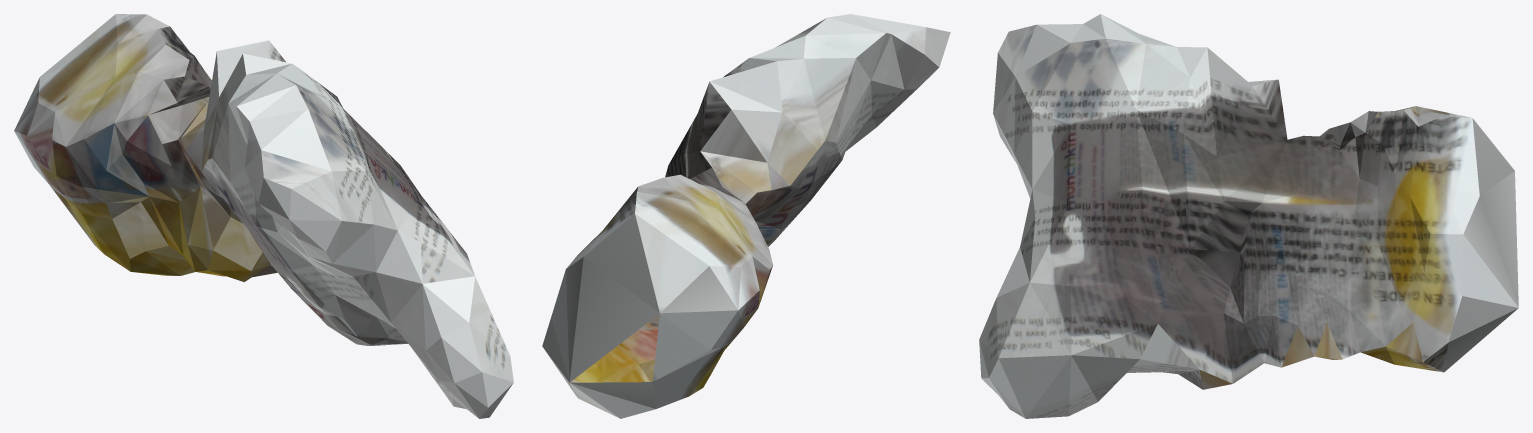
The model's file is munchkin_white_hot_duck_bath_toy.dae.
3 renders of one model, left to right at view 1: azimuth 30°, elevation 25°; view 2: azimuth 150°, elevation 25°; view 3: azimuth 270°, elevation 25°, orthographic. The views are drawn at different scales.
Visible parts, largest first — view 1: node; view 2: node; view 3: node.
Part boxes in pixels (x1,y1,x2,y2): node: [14, 14, 513, 418]; node: [542, 14, 950, 418]; node: [979, 14, 1518, 418].
Size of the model in its own units: 0.1126 by 0.1331 by 0.2091.
1 material, 1 textured.
